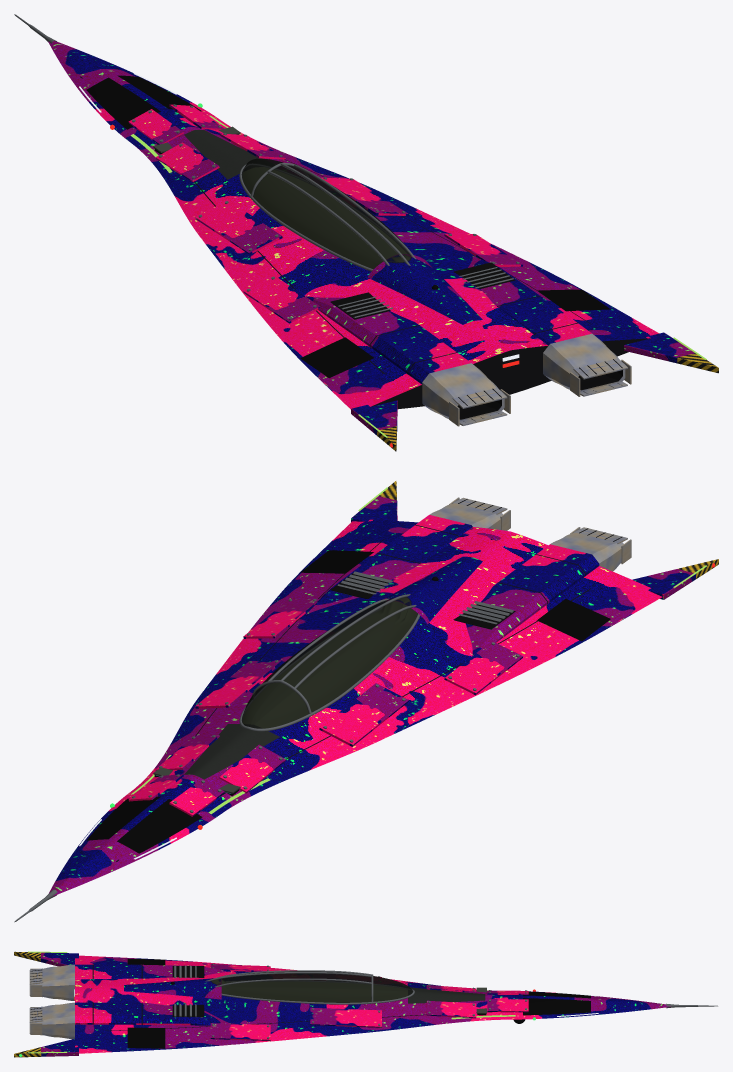
Rendered from hull_blade.glb.
3 views of the same model, one above another, from view 1: azimuth 30°, elevation 25°; view 2: azimuth 150°, elevation 25°; view 3: azimuth 270°, elevation 25° (orthographic). The views are drawn at different scales.
Visible parts, largest first — view 1: Fuselage_Upper, Canopy_Glass, Canopy_Floor, Pod_L_Hump, Pod_R_M_Titanium, Pod_L_M_Titanium, Fairing, Pod_R_Hump, Fuselage_M_Dark, Canopy_M_Gunmetal, Armor_2_L_Plate, Armor_3_L_Plate (+14 smaller); view 2: Fuselage_Upper, Canopy_Glass, Canopy_Floor, Pod_L_Hump, Pod_R_Hump, Canopy_M_Gunmetal, Armor_2_L_Plate, Fairing, Fuselage_M_AntiSlip, Armor_3_L_Plate, Decal_Number_L, Pod_L_M_Titanium (+11 smaller); view 3: Fuselage_Upper, Canopy_Glass, Canopy_Floor, Pod_R_Hump, Canopy_M_Gunmetal, Pod_L_Hump, Pod_L_M_Titanium, Pod_R_M_Titanium, Fairing, Armor_2_R_Plate, Armor_3_R_Plate, Decal_Number_R (+15 smaller).
Part boxes in pixels (x1=…): Fuselage_Upper: x1=48, y1=41, x2=659, y2=409; Canopy_Glass: x1=241, y1=158, x2=411, y2=269; Canopy_Floor: x1=243, y1=167, x2=410, y2=268; Pod_L_Hump: x1=306, y1=296, x2=470, y2=384; Pod_R_M_Titanium: x1=543, y1=333, x2=631, y2=396; Pod_L_M_Titanium: x1=422, y1=363, x2=510, y2=426; Fairing: x1=367, y1=254, x2=482, y2=324; Pod_R_Hump: x1=468, y1=256, x2=591, y2=345; Fuselage_M_Dark: x1=371, y1=338, x2=650, y2=409; Canopy_M_Gunmetal: x1=239, y1=162, x2=416, y2=271; Armor_2_L_Plate: x1=195, y1=200, x2=282, y2=254; Armor_3_L_Plate: x1=243, y1=275, x2=320, y2=323; Fuselage_Upper: x1=49, y1=519, x2=662, y2=896; Canopy_Glass: x1=241, y1=597, x2=417, y2=728; Canopy_Floor: x1=243, y1=597, x2=417, y2=728; Pod_L_Hump: x1=466, y1=544, x2=599, y2=655; Pod_R_Hump: x1=306, y1=515, x2=472, y2=614; Canopy_M_Gunmetal: x1=239, y1=594, x2=420, y2=731; Armor_2_L_Plate: x1=319, y1=683, x2=408, y2=746; Fairing: x1=383, y1=556, x2=482, y2=624; Fuselage_M_AntiSlip: x1=184, y1=724, x2=279, y2=779; Armor_3_L_Plate: x1=444, y1=641, x2=522, y2=695; Decal_Number_L: x1=117, y1=799, x2=202, y2=853; Pod_L_M_Titanium: x1=550, y1=527, x2=631, y2=571; Fuselage_Upper: x1=75, y1=955, x2=670, y2=1053; Canopy_Glass: x1=210, y1=971, x2=412, y2=1002; Canopy_Floor: x1=212, y1=979, x2=407, y2=1002; Pod_R_Hump: x1=75, y1=1002, x2=230, y2=1025; Canopy_M_Gunmetal: x1=205, y1=970, x2=414, y2=1004; Pod_L_Hump: x1=75, y1=964, x2=230, y2=979; Pod_L_M_Titanium: x1=29, y1=964, x2=74, y2=1000; Pod_R_M_Titanium: x1=29, y1=1002, x2=74, y2=1039; Fairing: x1=124, y1=978, x2=221, y2=999; Armor_2_R_Plate: x1=310, y1=1007, x2=381, y2=1027; Armor_3_R_Plate: x1=210, y1=1023, x2=270, y2=1041; Decal_Number_R: x1=523, y1=998, x2=590, y2=1015.
Bounding box in the file's own units: 3.22 × 0.7535 × 9.36.
Materials: 38 (7 with a texture image).
